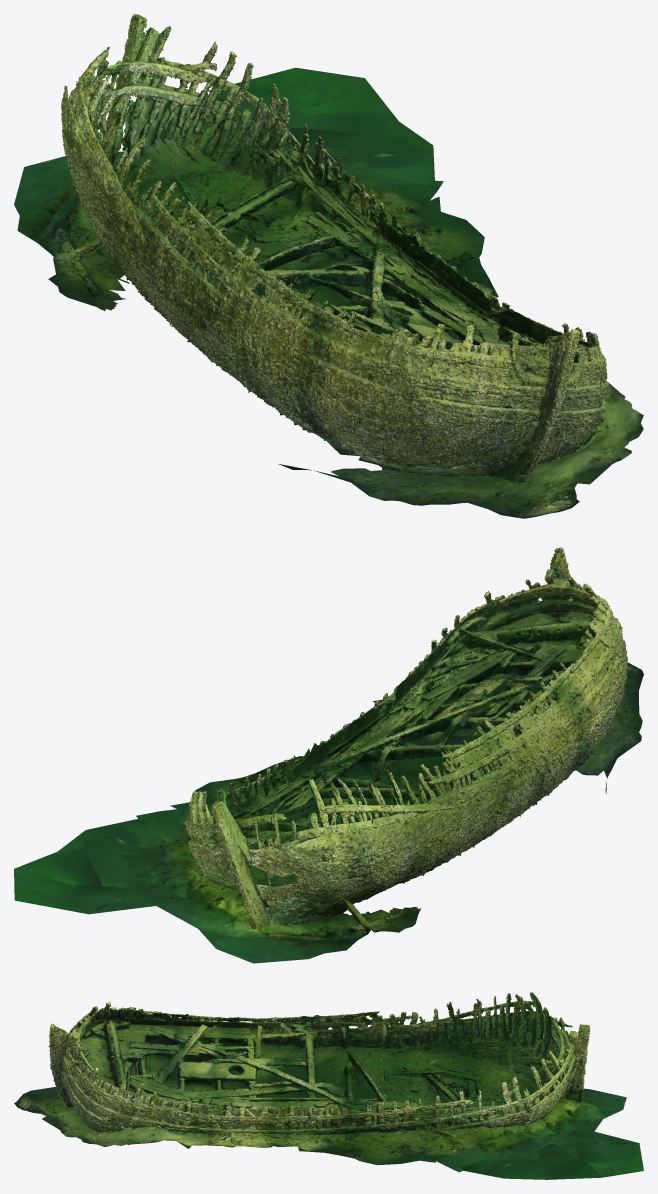
The model's file is wreck2.glb.
3 views of the same model, one above another, from view 1: azimuth 30°, elevation 25°; view 2: azimuth 150°, elevation 25°; view 3: azimuth 270°, elevation 25° (orthographic). The views are drawn at different scales.
Visible parts, largest first — view 1: Model_material0_0; view 2: Model_material0_0; view 3: Model_material0_0.
Boxes of the visible parts, x1,y1,x2,y2 form: Model_material0_0: (14, 14, 643, 518); Model_material0_0: (14, 547, 643, 963); Model_material0_0: (14, 992, 643, 1179).
Bounding box in the file's own units: 0.4675 × 0.212 × 1.
1 material, 1 textured.
